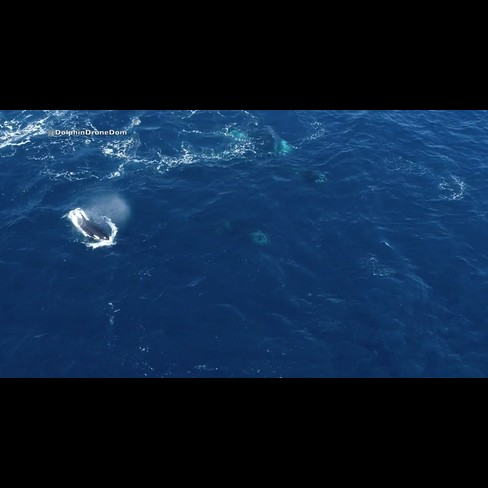orca: (58, 194, 119, 248)
